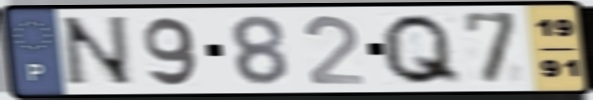2: (300, 13, 371, 87)
7: (458, 10, 523, 87)
8: (226, 13, 292, 88)
9: (140, 14, 200, 88)
N: (58, 14, 139, 90)
Q: (378, 11, 466, 87)
